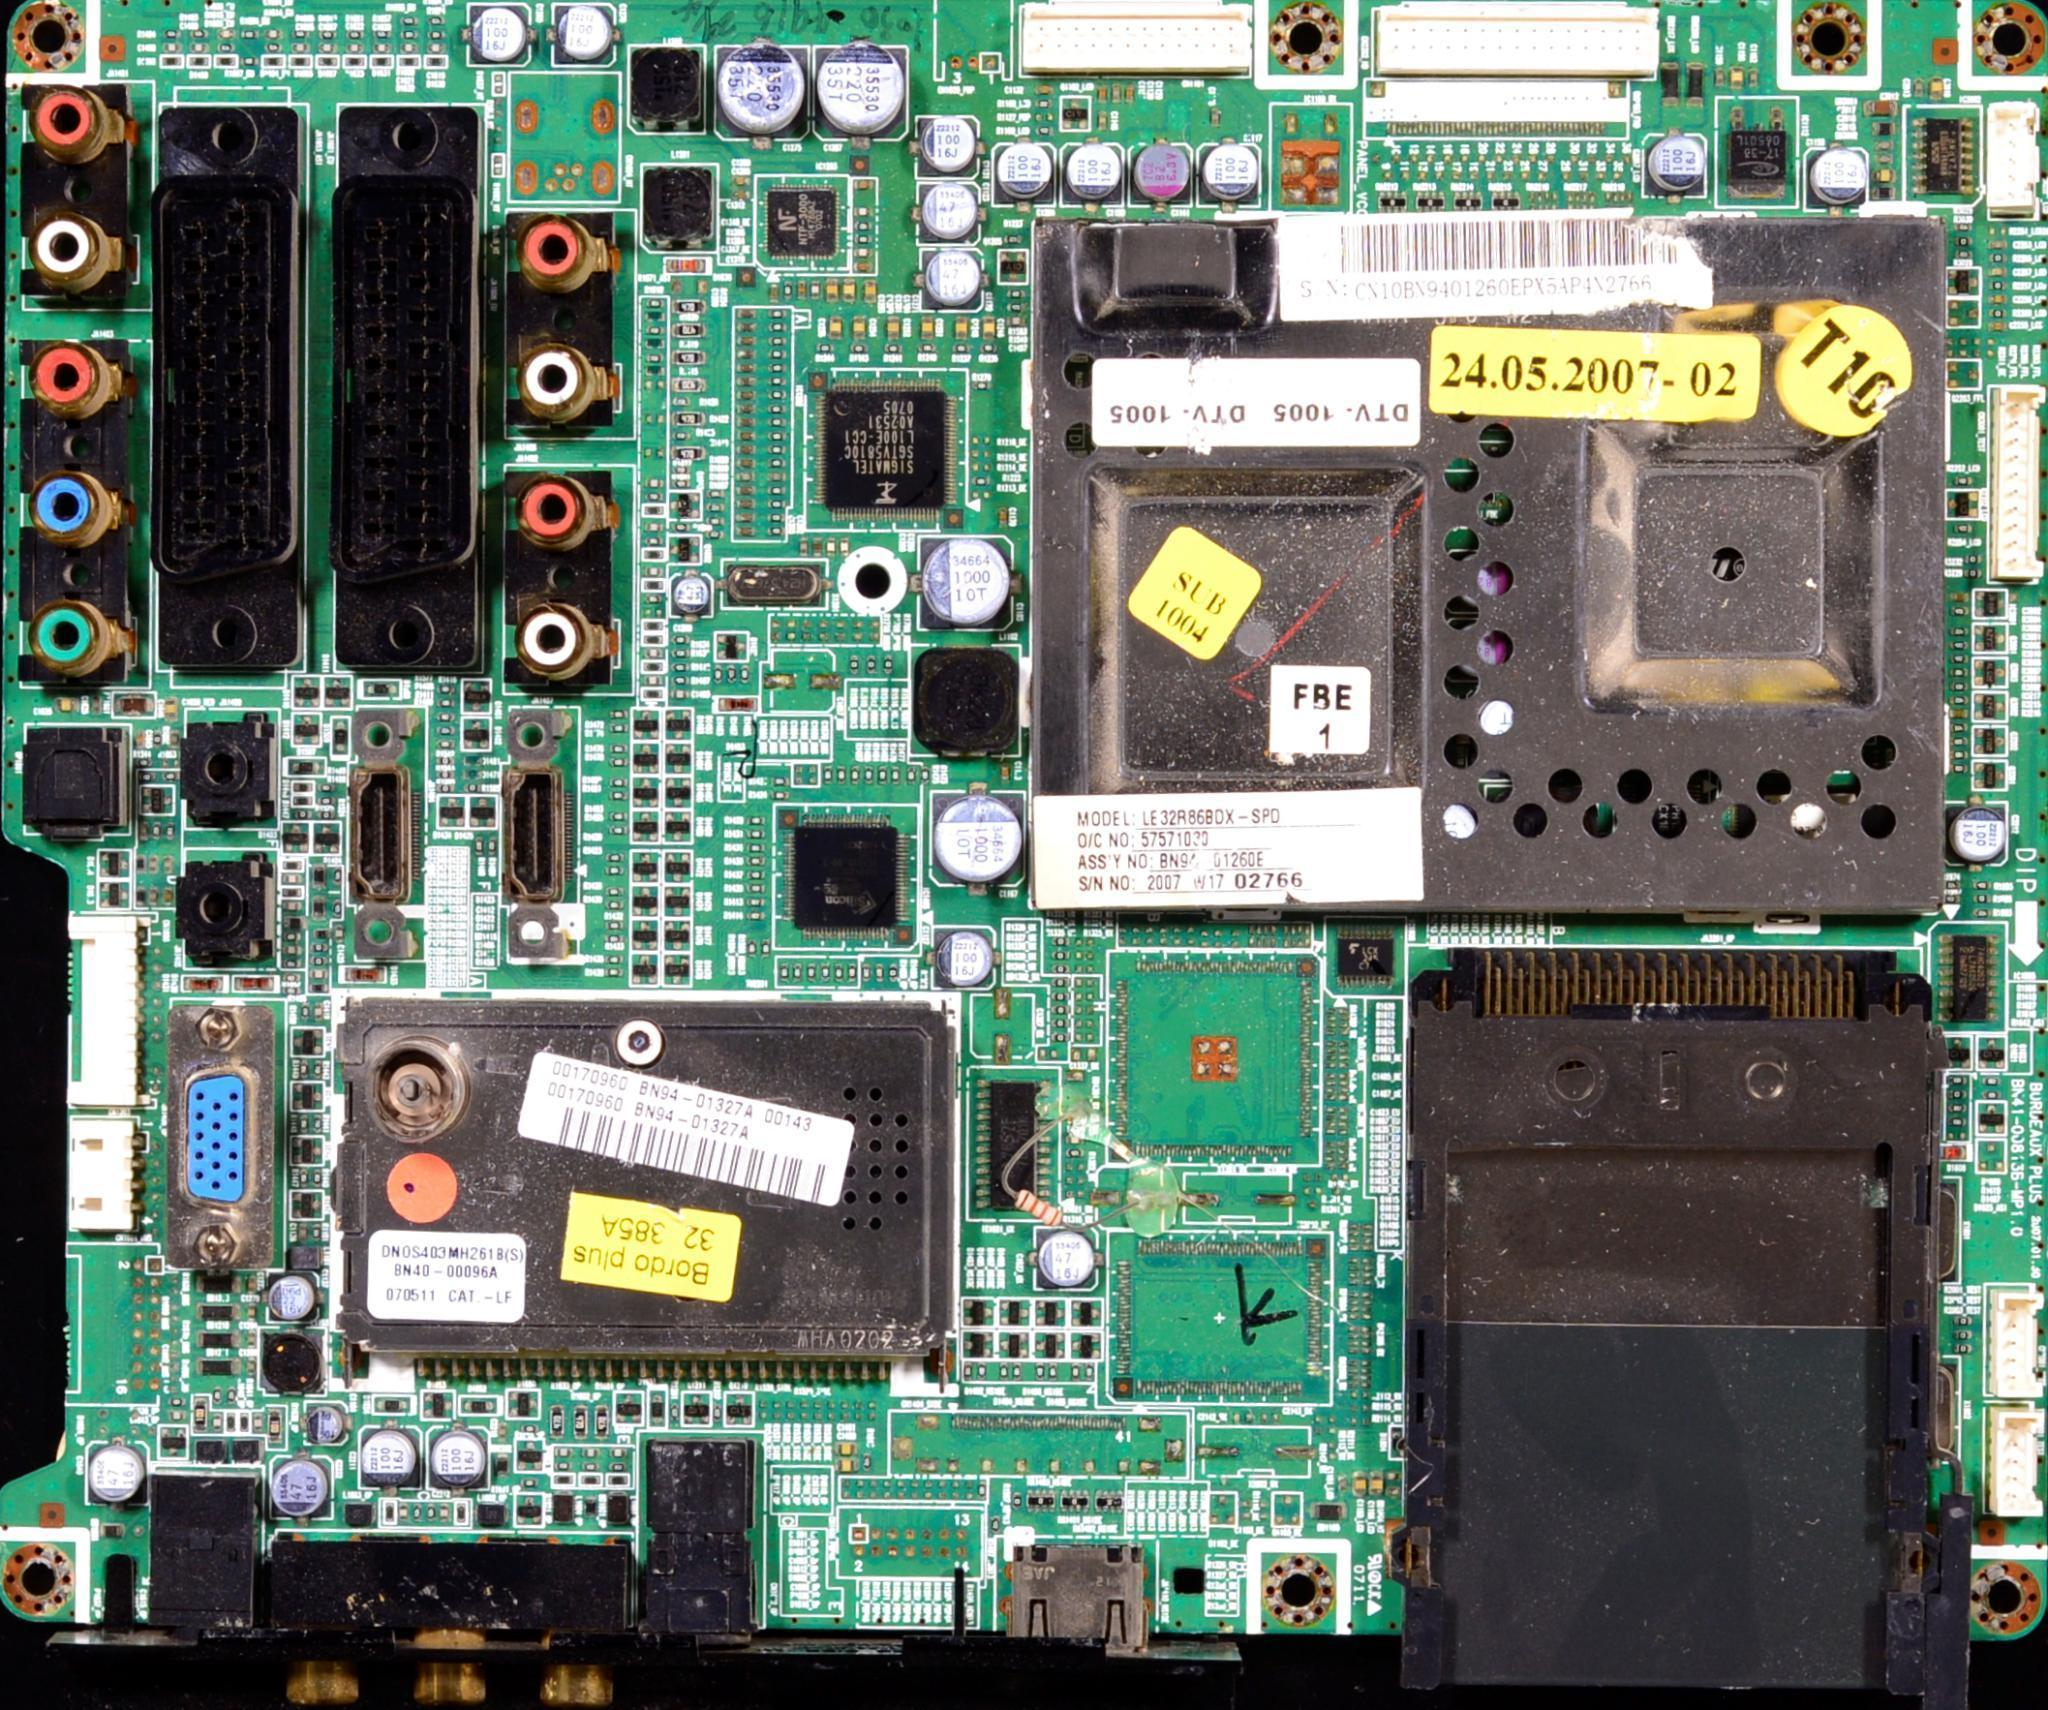Capacitor: (915, 114, 984, 178), (1060, 139, 1126, 204), (1135, 139, 1194, 205), (919, 251, 988, 307), (1202, 139, 1260, 205), (915, 185, 982, 241), (994, 148, 1051, 200), (916, 315, 939, 344), (1863, 100, 1896, 117), (825, 313, 844, 342), (50, 695, 78, 713), (862, 276, 878, 310), (980, 313, 998, 341), (1370, 1468, 1384, 1500), (840, 274, 856, 306), (1351, 1471, 1368, 1500), (993, 763, 1016, 785), (825, 276, 840, 306), (952, 313, 970, 340), (884, 316, 903, 341), (850, 314, 868, 341), (641, 516, 666, 533), (998, 504, 1013, 531), (1094, 81, 1110, 106), (724, 175, 754, 189), (833, 1439, 859, 1455), (638, 673, 670, 686), (850, 175, 874, 191), (785, 617, 800, 641), (764, 282, 781, 303), (245, 1300, 260, 1322), (1872, 152, 1896, 165), (816, 615, 829, 641), (1930, 76, 1944, 100), (834, 1460, 859, 1472), (244, 1353, 257, 1375), (735, 416, 757, 428), (163, 697, 177, 720), (849, 260, 878, 270), (1984, 319, 2008, 330), (734, 374, 758, 386), (424, 43, 447, 54), (733, 499, 757, 511), (833, 617, 846, 641), (733, 459, 760, 470), (850, 206, 872, 218), (733, 429, 755, 441), (735, 526, 757, 538), (1948, 592, 1969, 604), (854, 617, 865, 640), (726, 191, 751, 201), (730, 364, 758, 372), (497, 1420, 508, 1442), (1986, 293, 2007, 304), (735, 310, 758, 320), (734, 322, 756, 333), (372, 41, 393, 53), (732, 486, 756, 496), (772, 618, 782, 642), (1748, 66, 1760, 87), (1125, 83, 1134, 108), (1950, 476, 1977, 485), (736, 350, 758, 360), (735, 404, 757, 413), (289, 41, 312, 51), (801, 617, 811, 640), (870, 620, 880, 642), (135, 726, 145, 749), (161, 885, 172, 907), (319, 41, 338, 53), (1987, 240, 2012, 249), (297, 1224, 308, 1244), (244, 1274, 254, 1294), (245, 1326, 256, 1346), (734, 336, 756, 345), (345, 42, 365, 52), (1004, 315, 1027, 324), (733, 514, 757, 523), (1872, 141, 1892, 152), (161, 43, 181, 52), (734, 473, 754, 483), (735, 391, 757, 400), (1030, 87, 1053, 95), (401, 43, 417, 54), (849, 248, 873, 255), (92, 694, 101, 713), (192, 40, 207, 51), (799, 279, 807, 301), (1986, 269, 2004, 277), (736, 445, 754, 455), (1950, 709, 1967, 718), (671, 690, 686, 699)
Connector: (150, 114, 317, 684), (8, 91, 163, 687), (364, 130, 488, 653), (499, 217, 634, 679), (282, 1542, 622, 1707), (999, 1535, 1162, 1665), (1364, 6, 1669, 77), (1012, 0, 1254, 79), (57, 902, 135, 1100), (68, 1118, 146, 1240), (1987, 96, 2044, 217), (1991, 1399, 2048, 1516), (1986, 1280, 2041, 1396)
IC: (777, 804, 916, 949), (972, 1066, 1056, 1219), (1907, 108, 1978, 201), (1331, 919, 1401, 989)
Resistor: (739, 907, 768, 922), (390, 12, 418, 27), (335, 720, 347, 755), (959, 1357, 974, 1385), (430, 768, 461, 781), (428, 708, 458, 722), (599, 849, 627, 863), (845, 650, 861, 676), (1065, 1363, 1081, 1385), (763, 484, 791, 496), (993, 1359, 1009, 1384), (1944, 664, 1968, 679), (432, 752, 458, 766), (876, 763, 890, 787), (600, 881, 626, 895), (914, 345, 943, 357), (430, 725, 459, 736), (641, 591, 664, 605), (607, 705, 629, 719), (607, 773, 629, 787), (1031, 1358, 1044, 1382), (948, 344, 971, 357), (434, 694, 457, 708), (973, 380, 991, 396), (766, 307, 786, 321), (768, 786, 790, 801), (211, 1380, 223, 1405), (977, 1475, 988, 1500), (160, 28, 185, 39), (863, 763, 874, 787), (1951, 218, 1973, 232), (725, 662, 738, 684), (904, 763, 916, 785), (605, 787, 628, 801), (315, 792, 336, 804), (745, 892, 767, 906), (844, 343, 873, 354), (868, 649, 877, 678), (428, 741, 462, 750), (1963, 552, 1982, 566), (607, 720, 623, 738), (579, 1460, 603, 1472), (813, 344, 837, 356), (765, 375, 790, 387), (765, 472, 790, 483), (743, 881, 767, 893), (602, 917, 626, 929), (602, 949, 626, 962), (819, 962, 832, 981), (1943, 1075, 1970, 1086), (1001, 289, 1027, 299), (764, 431, 791, 441), (705, 485, 725, 499), (1970, 878, 1990, 891), (602, 929, 622, 943), (1049, 991, 1071, 1002), (1063, 1146, 1086, 1158), (1001, 301, 1023, 313), (765, 335, 787, 347), (606, 755, 628, 767), (603, 809, 625, 820), (746, 839, 768, 851), (1049, 935, 1072, 947), (807, 958, 816, 983), (216, 41, 241, 51), (968, 478, 993, 488), (768, 523, 786, 538), (603, 900, 627, 911), (1947, 1099, 1966, 1112), (884, 652, 893, 680), (874, 960, 884, 983), (834, 962, 845, 981), (281, 984, 301, 995), (425, 1502, 437, 1522), (988, 1511, 999, 1534), (672, 521, 692, 533), (435, 682, 456, 695), (1948, 693, 1968, 704), (605, 741, 626, 754), (603, 865, 623, 876), (1941, 894, 1964, 903), (604, 965, 621, 978), (242, 28, 258, 41), (242, 54, 258, 68), (671, 633, 688, 647), (748, 810, 765, 824), (1084, 1360, 1094, 1382), (851, 221, 872, 231), (766, 403, 787, 414), (765, 499, 787, 509), (837, 762, 847, 784), (749, 937, 758, 959), (1050, 949, 1071, 960), (310, 1221, 321, 1241), (163, 821, 175, 840), (750, 853, 769, 865), (283, 955, 301, 966), (1013, 1360, 1023, 1385), (228, 1381, 236, 1407), (764, 445, 789, 455), (892, 762, 900, 787), (1051, 962, 1072, 972), (793, 960, 803, 980), (1049, 1032, 1070, 1043), (412, 1498, 421, 1518), (852, 235, 872, 245), (767, 350, 788, 360), (767, 418, 787, 428), (704, 528, 724, 537), (430, 780, 450, 790), (609, 824, 625, 837), (746, 869, 767, 880), (1970, 893, 1990, 904), (1971, 907, 1992, 917), (762, 935, 772, 957), (309, 955, 330, 965), (1048, 1358, 1057, 1381), (768, 457, 786, 470), (702, 515, 726, 524), (673, 649, 691, 660), (920, 762, 928, 786), (852, 763, 861, 786), (283, 931, 299, 943), (1946, 1116, 1964, 1126), (298, 1168, 308, 1186), (882, 343, 901, 354), (739, 663, 748, 682), (464, 780, 483, 790), (293, 809, 311, 818), (152, 820, 161, 838), (1943, 878, 1961, 889), (780, 959, 789, 982), (978, 1357, 987, 1380), (784, 277, 792, 300), (765, 514, 787, 522), (488, 835, 496, 857), (312, 1061, 323, 1077), (136, 755, 151, 767), (863, 964, 872, 982), (308, 983, 329, 992), (1051, 1004, 1069, 1014), (1051, 1019, 1071, 1027), (609, 1458, 626, 1469), (428, 17, 446, 27), (371, 27, 388, 37), (188, 29, 209, 38), (427, 30, 447, 39), (767, 389, 787, 398), (705, 503, 725, 512), (1964, 570, 1982, 580), (1949, 626, 1967, 636), (668, 660, 686, 671), (714, 662, 723, 682), (1949, 681, 1967, 691), (1950, 719, 1969, 729), (768, 775, 786, 784), (294, 780, 312, 790), (318, 781, 335, 791), (475, 836, 483, 856), (283, 901, 303, 910), (311, 943, 328, 952), (342, 32, 365, 39), (280, 972, 300, 980), (1981, 1088, 2001, 1095), (864, 1450, 873, 1468), (552, 1461, 572, 1470), (1950, 736, 1968, 746), (292, 795, 311, 803), (311, 1169, 322, 1185), (165, 1397, 187, 1404), (1983, 1077, 2001, 1086), (313, 1114, 321, 1131), (644, 492, 662, 501), (1947, 607, 1965, 616), (644, 648, 662, 657), (1950, 750, 1967, 759), (977, 344, 997, 351), (767, 365, 788, 373), (643, 537, 663, 544), (1051, 976, 1067, 986), (299, 1115, 308, 1130), (674, 674, 689, 682), (849, 963, 856, 982), (300, 1059, 307, 1077), (1953, 250, 1971, 257), (291, 31, 309, 38), (399, 32, 418, 39), (647, 570, 665, 576), (1947, 655, 1966, 662), (825, 765, 831, 785), (747, 828, 766, 836), (283, 875, 301, 882), (767, 325, 785, 331), (1950, 641, 1966, 649), (1951, 764, 1965, 773), (320, 30, 334, 38)
Transistor: (1939, 927, 2007, 1023), (1967, 586, 2007, 619), (158, 1423, 191, 1461), (1060, 94, 1091, 132), (683, 1388, 714, 1427), (723, 1390, 757, 1425), (1969, 687, 2006, 719), (461, 717, 493, 752), (1971, 758, 2008, 789), (514, 1491, 544, 1526), (1944, 489, 1980, 519), (632, 706, 663, 741), (94, 850, 131, 880), (1033, 1296, 1067, 1327), (1973, 622, 2008, 653), (1942, 1033, 1971, 1068), (1970, 656, 2006, 686), (666, 706, 695, 741), (461, 678, 489, 714), (628, 953, 659, 985), (514, 1436, 545, 1469), (631, 742, 661, 774), (1977, 1035, 2006, 1068), (1972, 725, 2006, 754), (628, 811, 661, 841), (663, 851, 693, 884), (962, 1297, 999, 1323), (612, 1391, 643, 1422), (660, 888, 691, 919), (293, 676, 322, 707), (289, 1083, 324, 1110), (1976, 1102, 2004, 1136), (288, 1189, 322, 1217), (291, 1029, 326, 1055), (1071, 1297, 1102, 1326), (1072, 1331, 1102, 1360), (661, 918, 691, 949), (324, 676, 350, 708), (664, 778, 691, 810), (423, 1388, 452, 1418), (510, 1388, 539, 1418), (998, 251, 1027, 280), (663, 744, 693, 773), (632, 779, 661, 808), (633, 850, 660, 882), (629, 919, 657, 950), (963, 1330, 996, 1355), (292, 1135, 322, 1162), (1001, 1298, 1029, 1325), (999, 1329, 1028, 1356), (440, 796, 467, 825), (1035, 1333, 1065, 1358), (1947, 268, 1979, 295), (295, 711, 318, 743), (97, 884, 134, 906), (664, 814, 691, 840), (312, 823, 338, 851), (469, 796, 495, 826), (633, 886, 658, 915), (663, 954, 687, 984), (284, 824, 307, 853)
